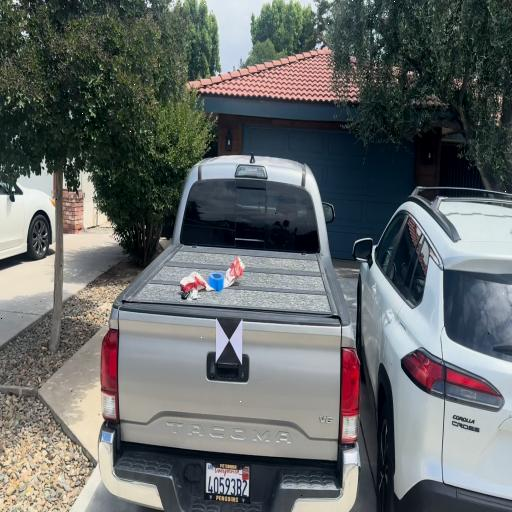target: (216, 318, 242, 364)
